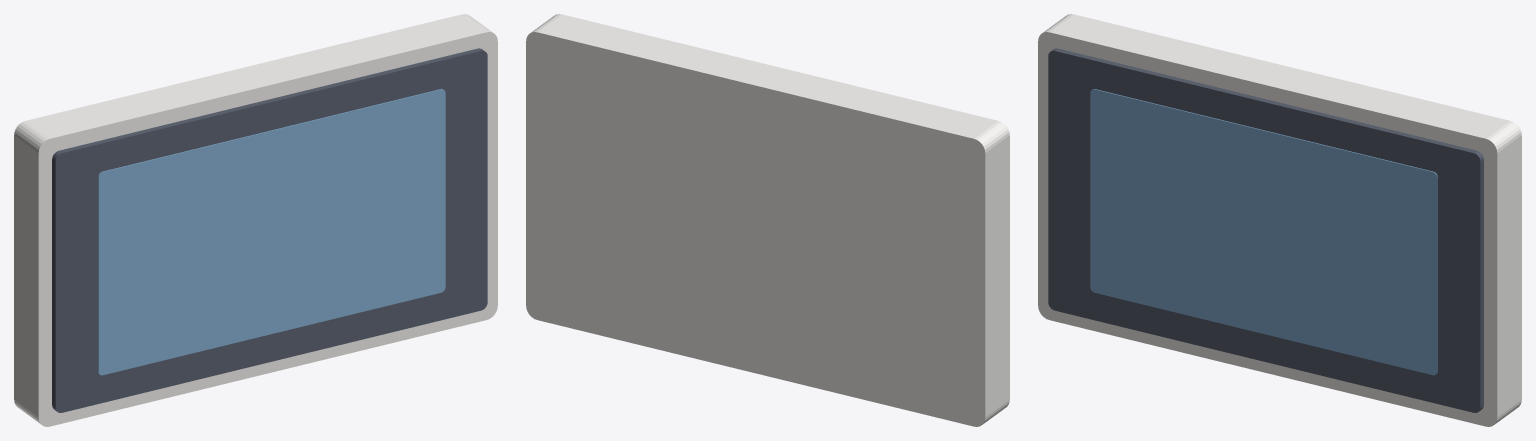
The model's file is device.canary-display-dash7.glb.
3 views of the same model, side by side, from view 1: azimuth 30°, elevation 25°; view 2: azimuth 150°, elevation 25°; view 3: azimuth 330°, elevation 25° (orthographic).
Bounding box in the file's own units: 0.205 × 0.1228 × 0.022.
